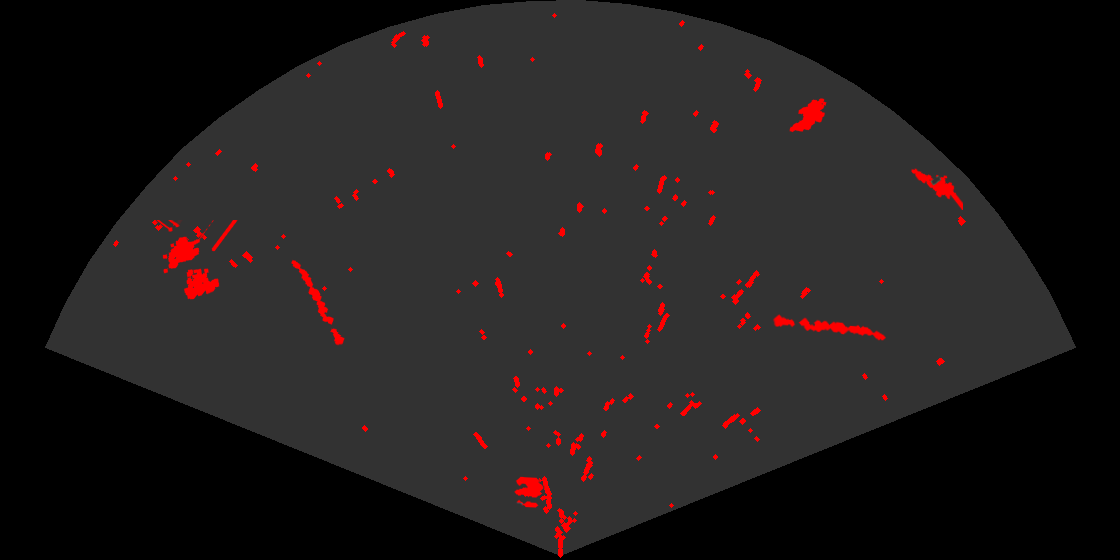AUV: (788, 97, 828, 134)
ball: (513, 475, 545, 509)
cage: (155, 220, 239, 301)
chain: (290, 259, 346, 347), (771, 313, 888, 342)
frogman: (909, 167, 963, 210)
